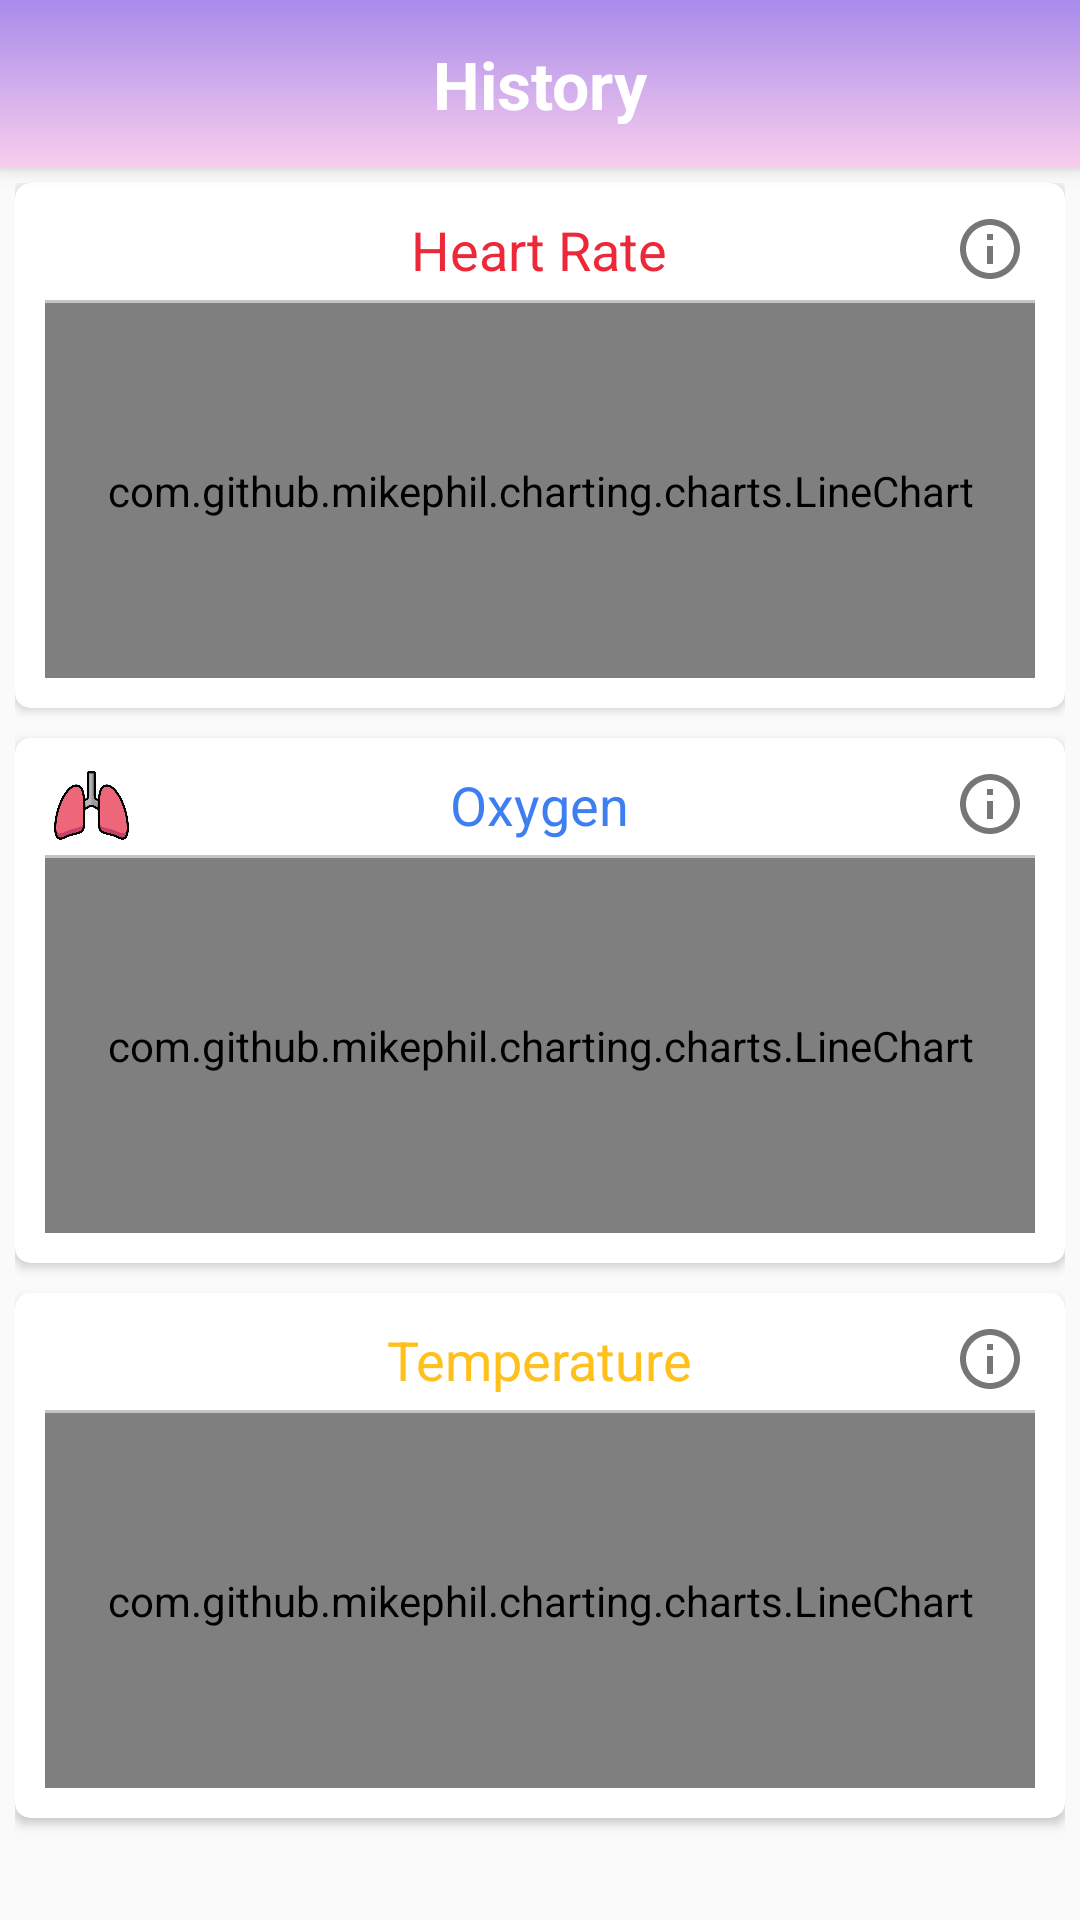

Icons on this 1080 × 1920 Android screen, each with the point to tap as (x=x, y=y):
info: (x=990, y=249), (x=990, y=804), (x=990, y=1359)
lungs: (x=91, y=805)
